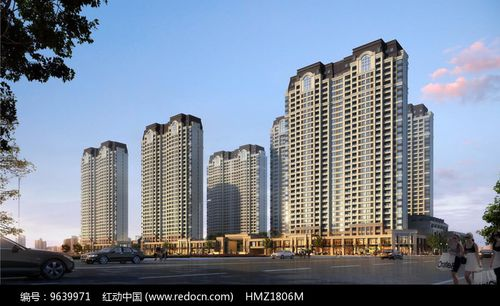buildings: (265, 45, 439, 257), (127, 107, 215, 249), (199, 135, 272, 246), (72, 132, 136, 256)
